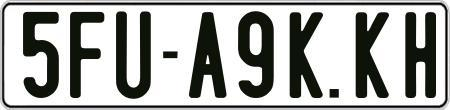5: (23, 9, 59, 96)
9: (236, 11, 274, 98)
A: (189, 11, 232, 98)
F: (68, 9, 106, 101)
H: (404, 12, 436, 104)
K: (288, 12, 326, 102), (356, 12, 389, 98)
U: (114, 9, 150, 103)
